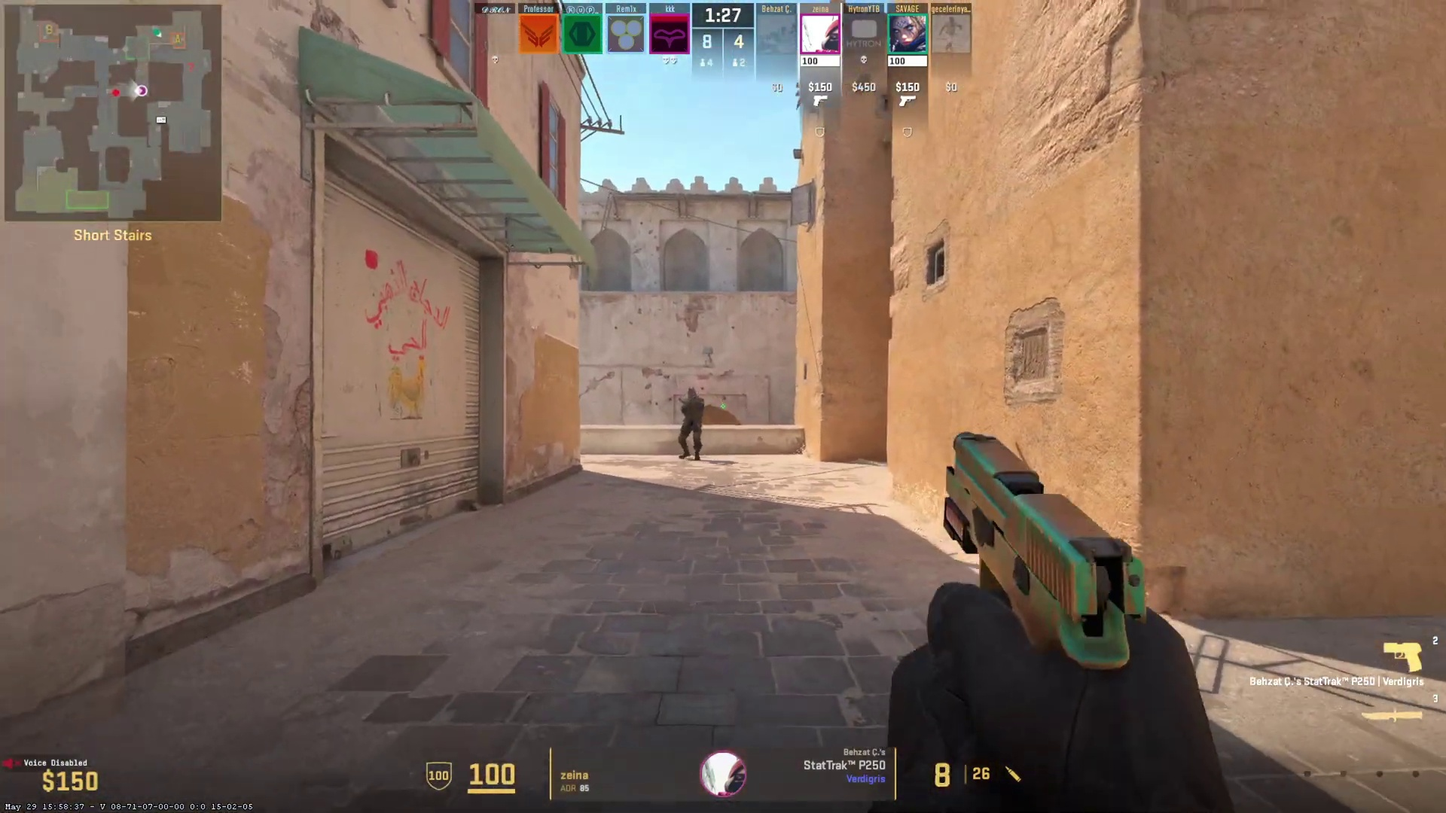CT: (680, 387, 703, 461)
